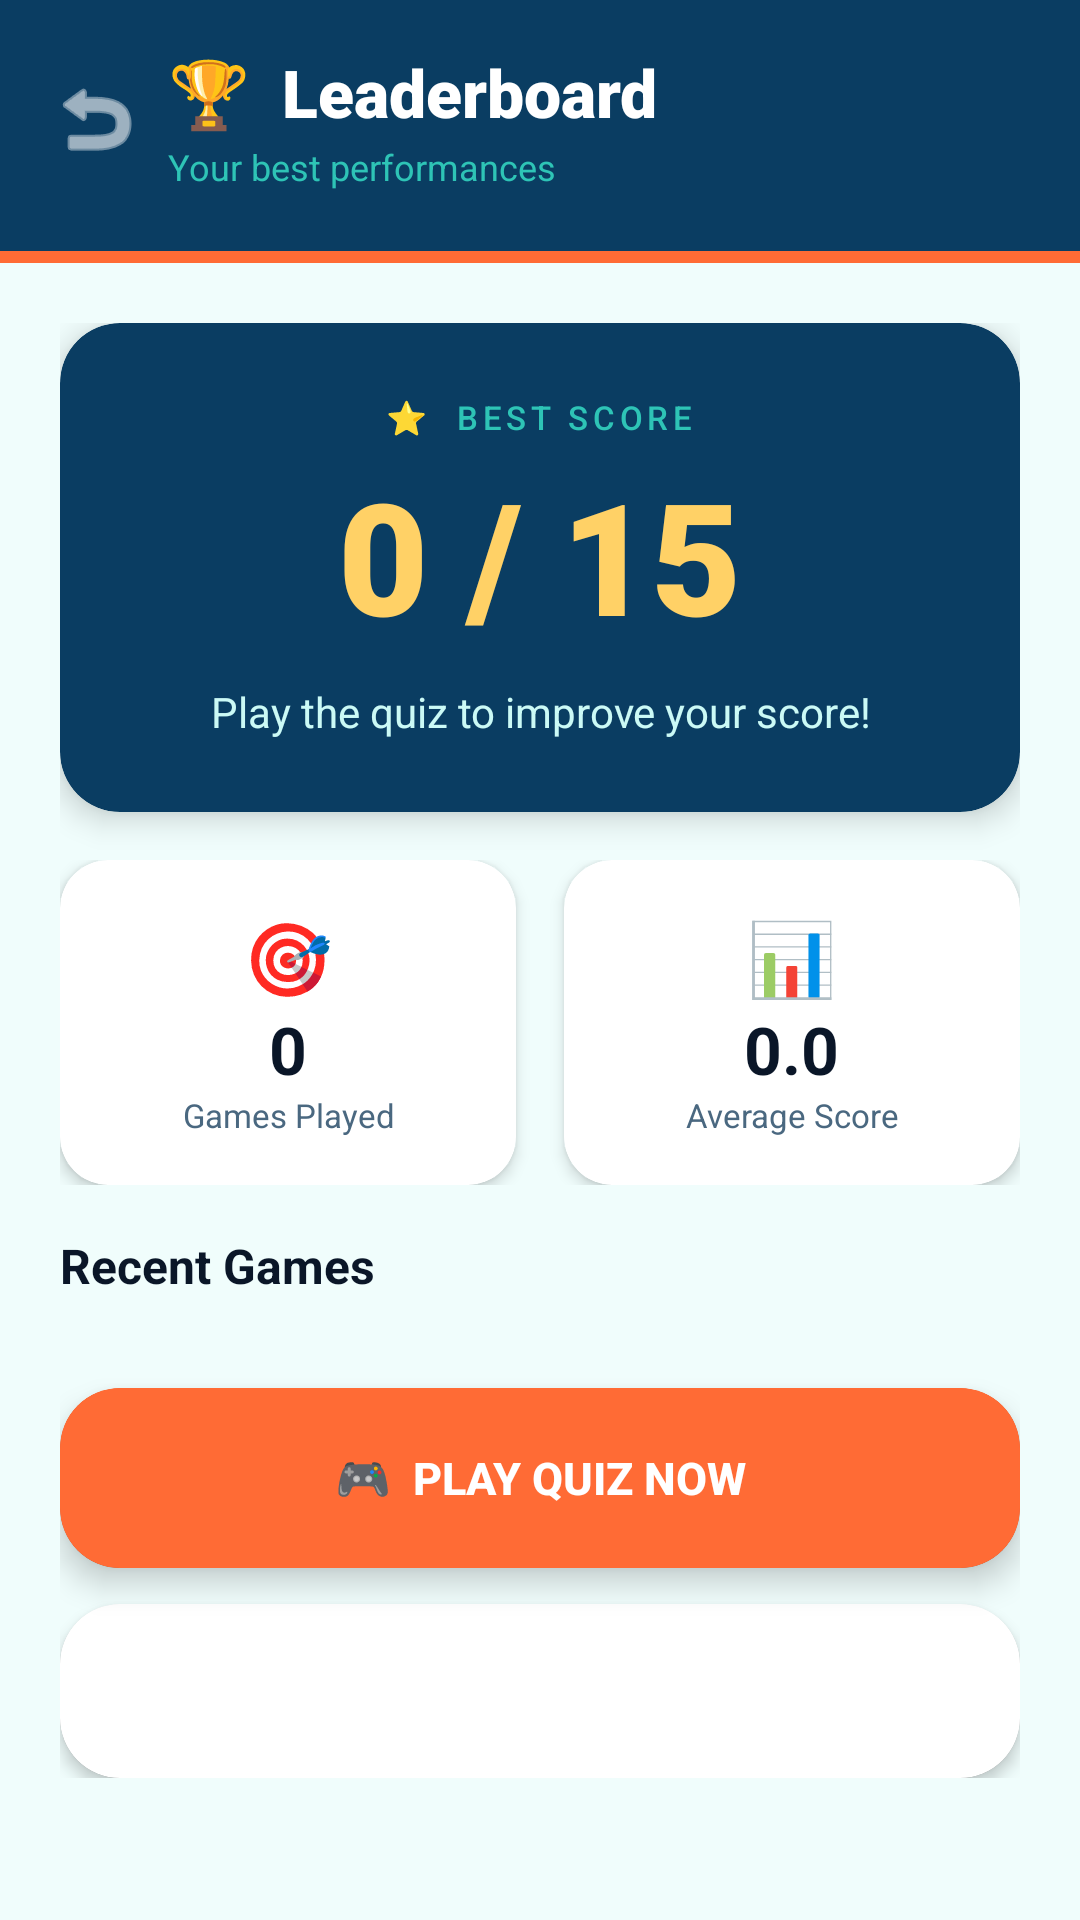

Named icons in this screenshot (1080×1920) and their bounding boxes, (x1, y1, x2, y2):
Back: (63, 88, 132, 151)
